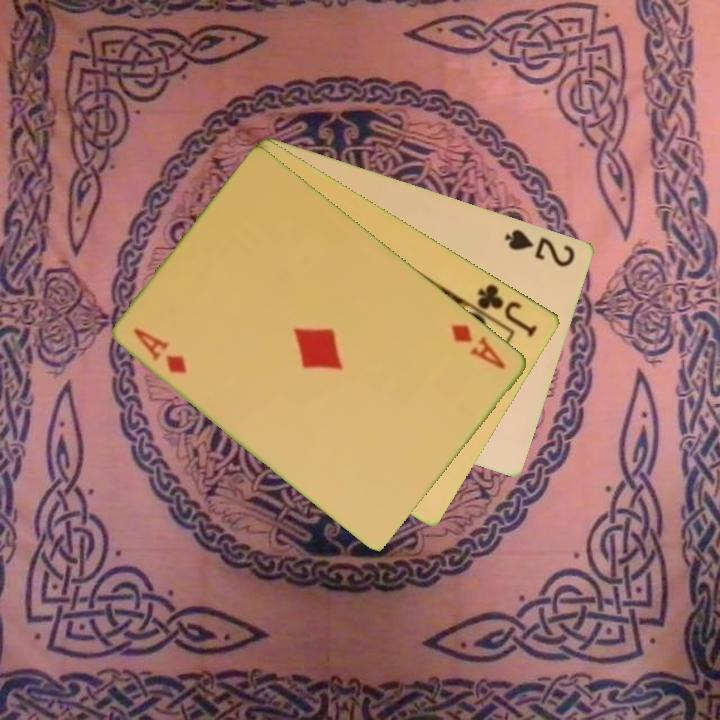2s: (501, 225, 579, 270)
Ad: (448, 320, 509, 373), (130, 324, 191, 377)
Jc: (474, 280, 541, 340)
